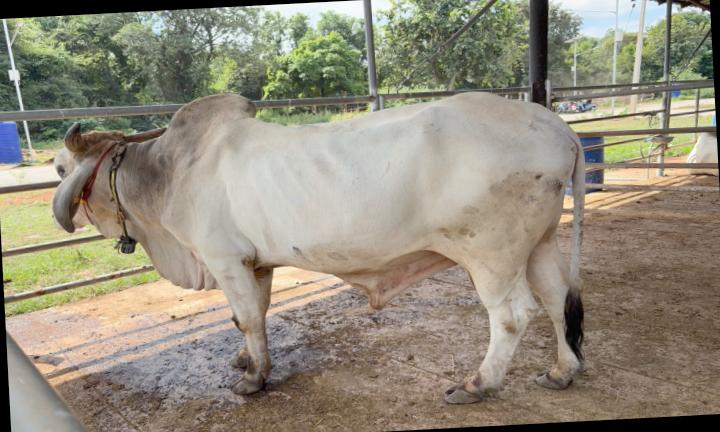Brahman: (53, 92, 584, 402)
